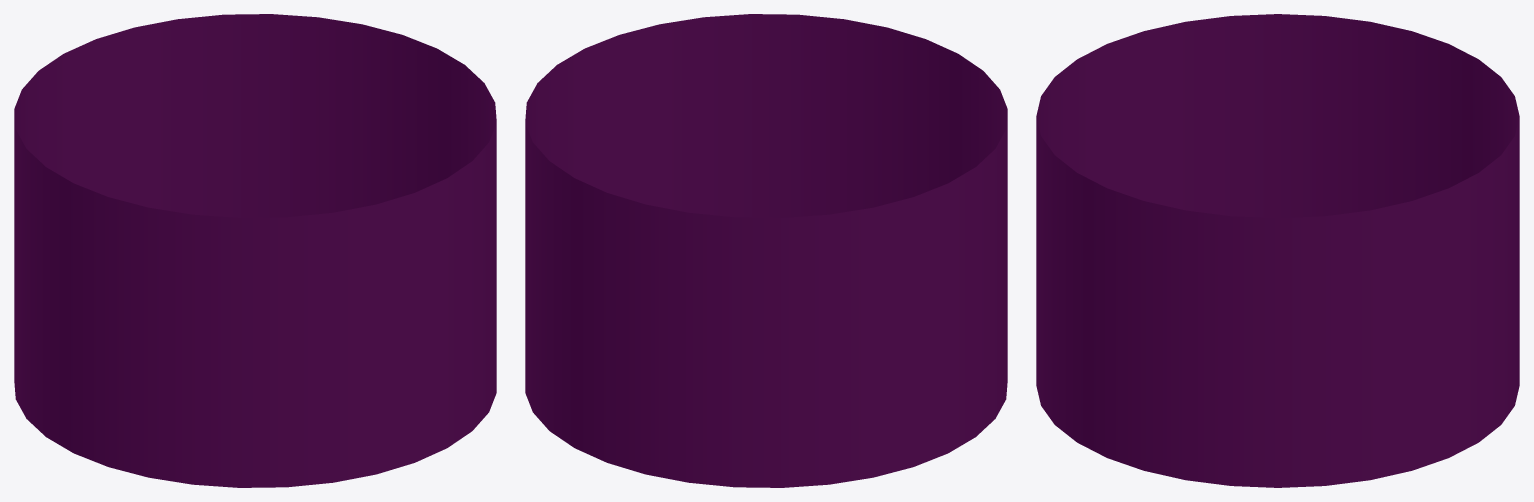
Rendered from sky.glb.
3 views of the same model, side by side, from view 1: azimuth 30°, elevation 25°; view 2: azimuth 150°, elevation 25°; view 3: azimuth 270°, elevation 25° (orthographic).
Visible parts, largest first — view 1: Cylinder.001; view 2: Cylinder.001; view 3: Cylinder.001.
Boxes of the visible parts, box(x1,y1,x2,y2) form: Cylinder.001: box(14, 14, 496, 487); Cylinder.001: box(525, 14, 1007, 487); Cylinder.001: box(1036, 14, 1519, 487).
Bounding box in the file's own units: 40.82 × 25.15 × 40.82.
